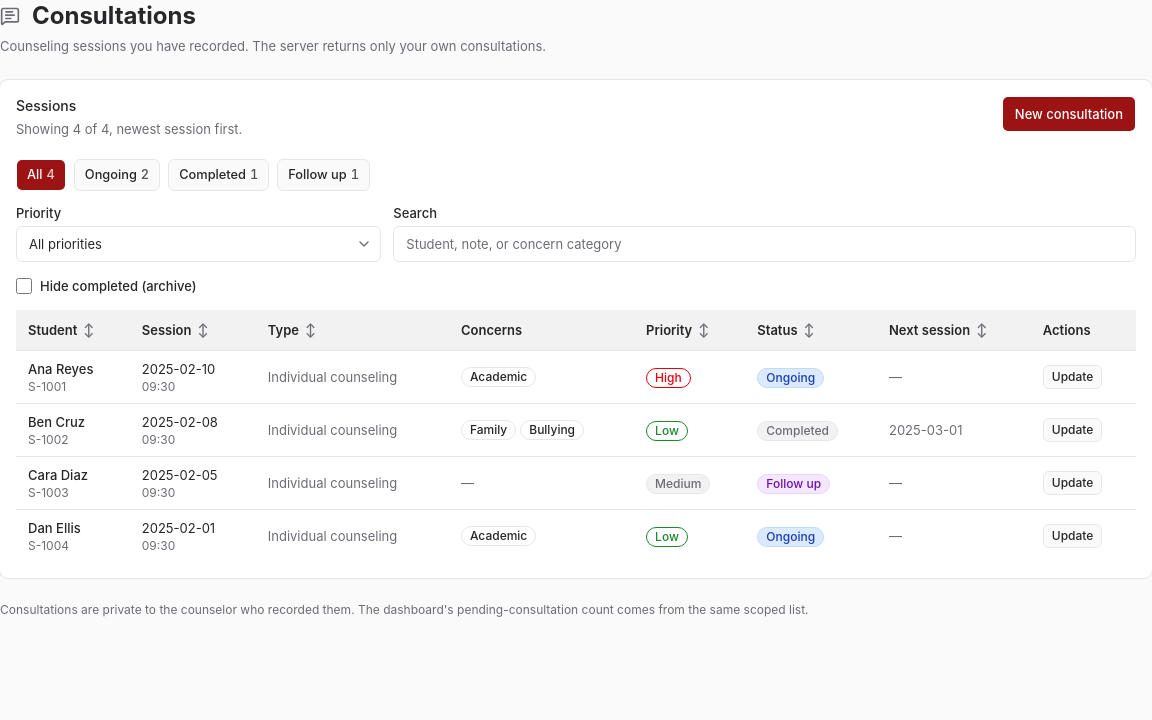
ConsultationsPage › refuses a next session earlier than the session itself (TC-GUI-13)
Expected: the text "Ana Reyes" is shown, x1=28 y1=361 x2=93 y2=377
Click the button "New consultation" at coordinates (1069, 114), box x1=1002 y1=96 x2=1136 y2=132
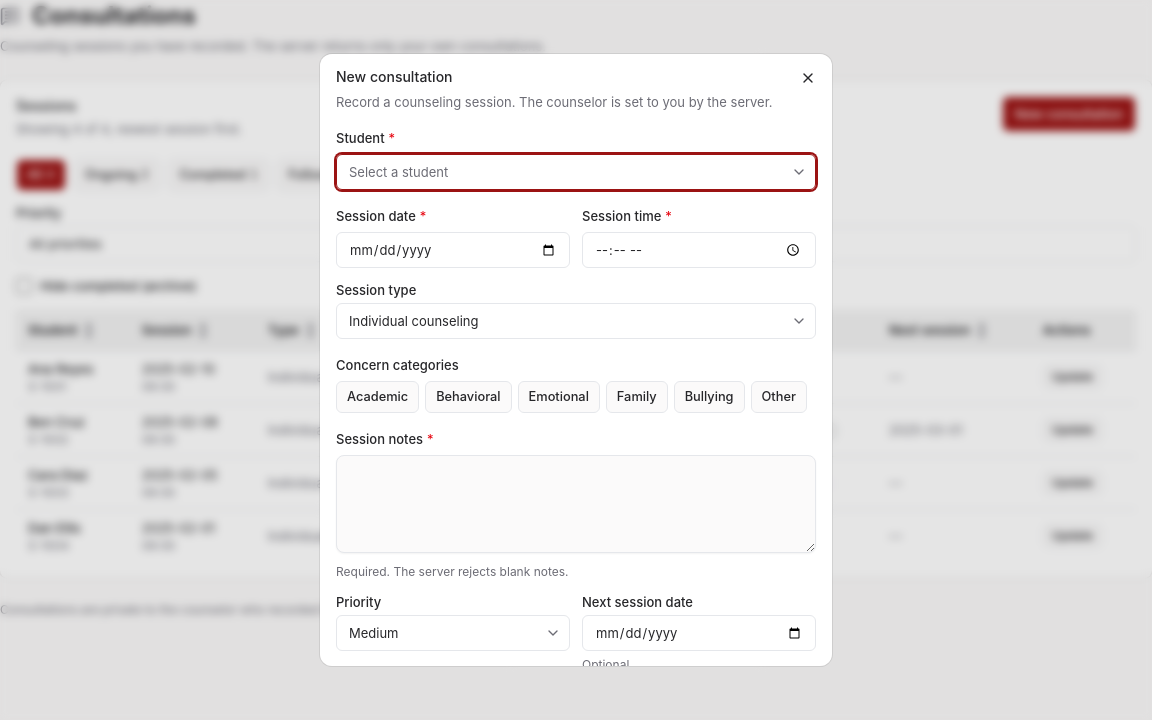
Result: the dropdown labelled "Select a student" is enabled
Press ArrowDown in the dropdown labelled "Select a student", box x1=336 y1=154 x2=816 y2=190
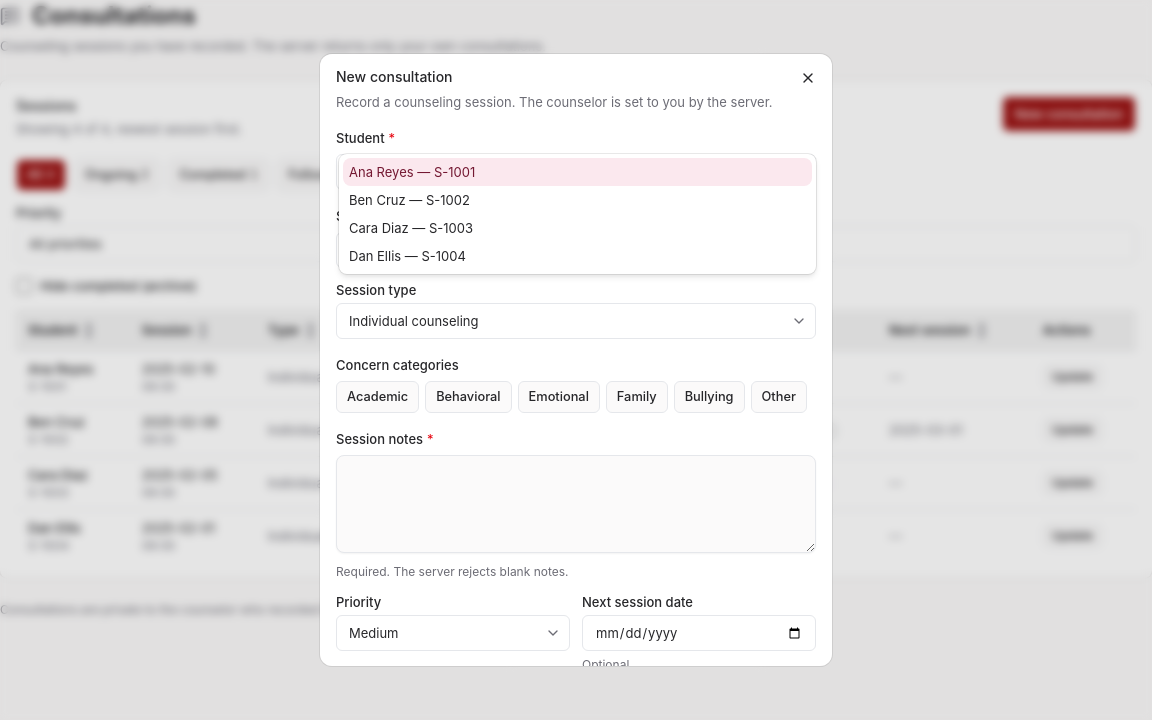
Click the option "Ana Reyes — S-1001" at coordinates (381, 172), box x1=343 y1=158 x2=812 y2=186
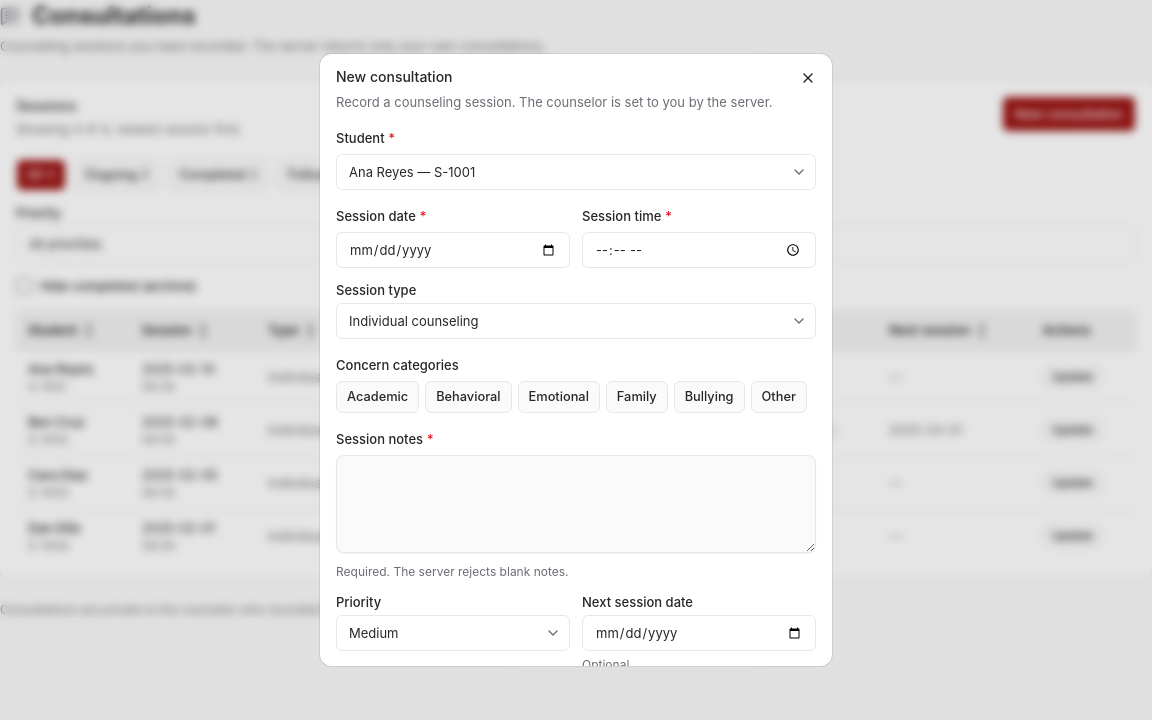
Type "2025-03-04" into the date field labelled "Session date" at coordinates (453, 250), box x1=336 y1=232 x2=570 y2=268
Type "10:15" into the time field labelled "Session time" at coordinates (699, 250), box x1=582 y1=232 x2=816 y2=268
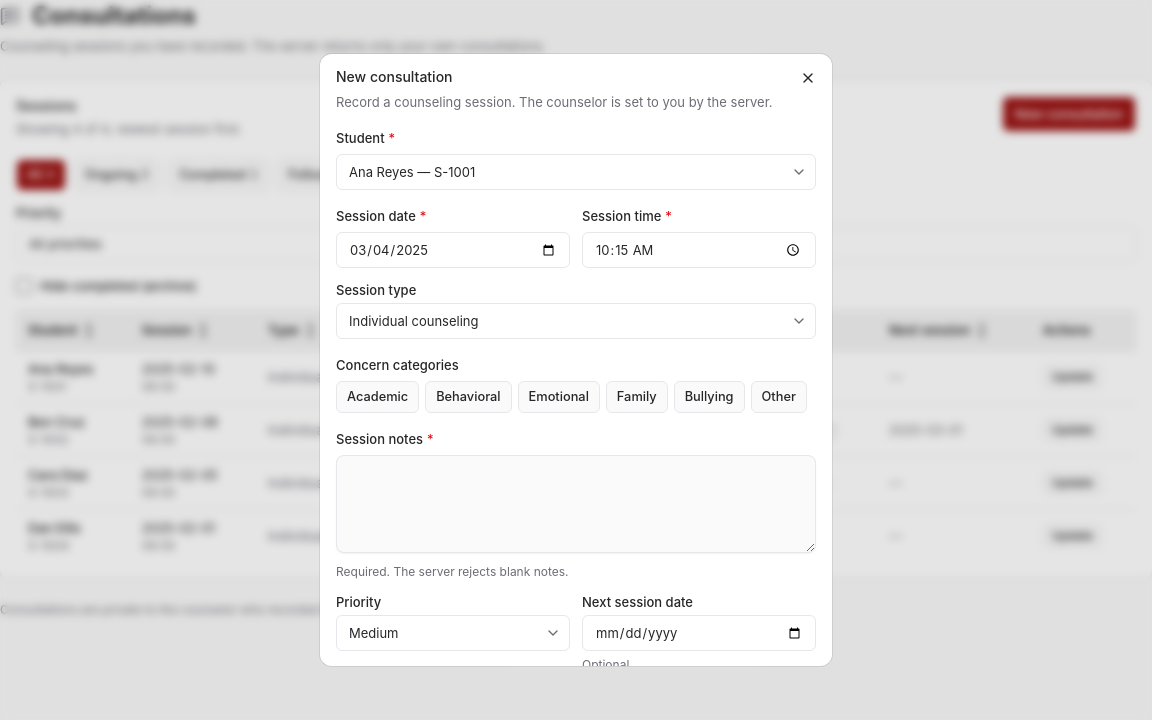
Type "Notes." into the text box labelled "Session notes" at coordinates (576, 504), box x1=336 y1=455 x2=816 y2=553
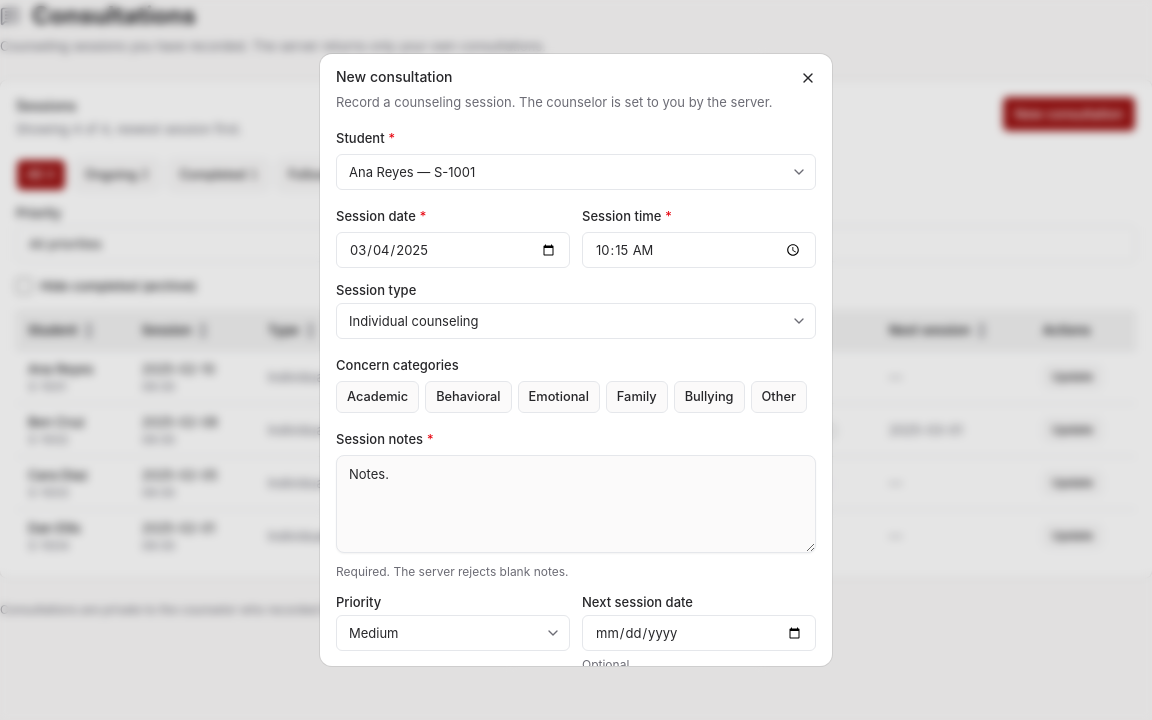
Type "2025-03-03" into the date field labelled "Next session date" at coordinates (699, 633), box x1=582 y1=615 x2=816 y2=651
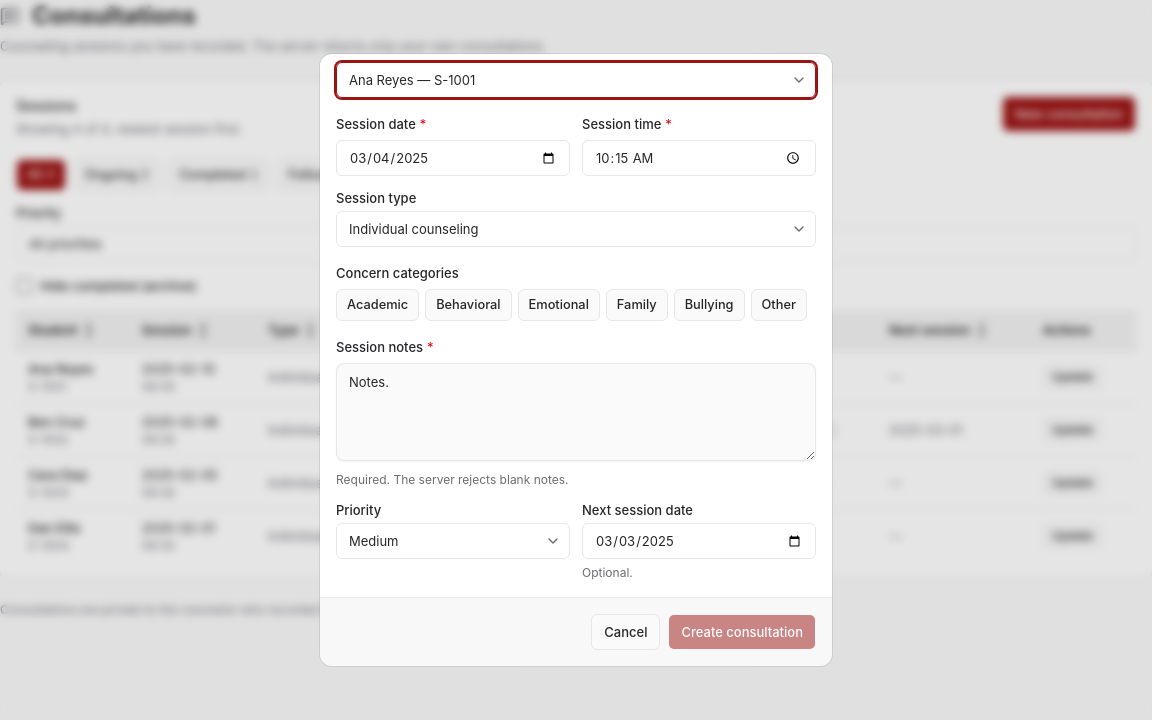
Result: the button "Create consultation" is disabled at x1=668 y1=614 x2=816 y2=650
